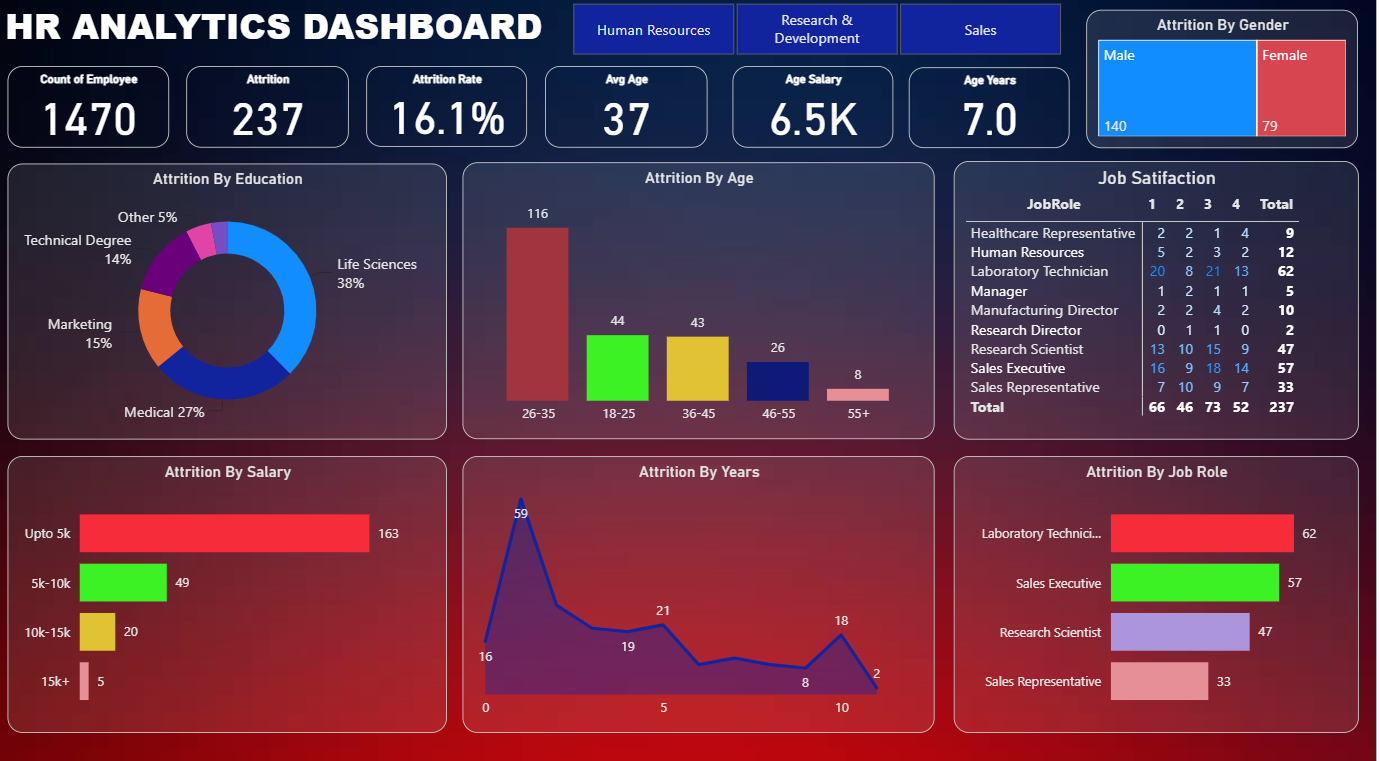

Layout of this report page (visuals, bound fields, positions):
{"tool":"powerbi","page":{"name":"Page 1","canvas":[1280,720],"ordinal":0},"visuals":[{"type":"card","title":"Count of Employee","fields":{"Values":["Sum(HR_Analytics.EmployeeCount)"]},"box":[7,65,150,76],"z":0},{"type":"card","title":"Attrition","fields":{"Values":["Sum(HR_Analytics.AttritionCount)"]},"box":[173,65,150.9,76.1],"z":1000},{"type":"card","title":"Avg Age","fields":{"Values":["Avg(HR_Analytics.Age)"]},"box":[506.8,65,150.9,76.1],"z":2000},{"type":"card","title":"Attrition Rate","fields":{"Values":["HR_Analytics.AttritionRate"]},"box":[341.1,65,149.7,74.8],"z":3000},{"type":"card","title":"Age Salary","fields":{"Values":["Avg(HR_Analytics.MonthlyIncome)"]},"box":[681,65,149.7,76.1],"z":4000},{"type":"card","title":"Age Years","fields":{"Values":["Avg(HR_Analytics.YearsAtCompany)"]},"box":[845.4,66.3,149.7,74.8],"z":5000},{"type":"donutChart","title":"Attrition By Education","fields":{"Category":["HR_Analytics.EducationField"],"Y":["Sum(HR_Analytics.AttritionCount)"]},"box":[7.4,155.8,408.6,256.4],"z":6000},{"type":"columnChart","title":"Attrition By Age","fields":{"Category":["HR_Analytics.AgeGroup"],"Y":["Sum(HR_Analytics.AttritionCount)"]},"box":[430.7,154.6,439.3,257.7],"z":7000},{"type":"pivotTable","title":"Job Satifaction","fields":{"Rows":["HR_Analytics.JobRole"],"Columns":["HR_Analytics.JobSatisfaction"],"Values":["Sum(HR_Analytics.AttritionCount)"]},"box":[887.1,153.4,376.7,258.9],"z":8000},{"type":"clusteredBarChart","title":"Attrition By Salary","fields":{"Category":["HR_Analytics.SalarySlab"],"Y":["Sum(HR_Analytics.AttritionCount)"]},"box":[7.4,428.2,408.6,257.7],"z":9000},{"type":"clusteredBarChart","title":"Attrition By Job Role","fields":{"Category":["HR_Analytics.JobRole"],"Y":["Sum(HR_Analytics.AttritionCount)"]},"box":[887.1,428.2,376.7,257.7],"z":10000},{"type":"areaChart","title":"Attrition By Years","fields":{"Category":["HR_Analytics.YearsAtCompany"],"Y":["Sum(HR_Analytics.AttritionCount)"]},"box":[430.7,428.2,439.3,257.7],"z":11000},{"type":"treemap","title":"Attrition By Gender","fields":{"Group":["HR_Analytics.Gender"],"Values":["Sum(HR_Analytics.AttritionCount)"]},"box":[1011,12.3,252.8,128.8],"z":12000},{"type":"slicer","fields":{"Values":["HR_Analytics.Department"]},"box":[506.8,0,504.3,61.4],"z":13000},{"type":"textbox","box":[0,0,535,71.2],"z":14000}]}

Visuals, with their boxes in screenshot pixels (x1, y1, x2, y2), scaled from the page's 1280x720 canvas onto the 1380x761 screenshot:
"Count of Employee" card: pyautogui.locateOnScreen(8, 69, 169, 149)
"Attrition" card: pyautogui.locateOnScreen(187, 69, 349, 149)
"Avg Age" card: pyautogui.locateOnScreen(546, 69, 709, 149)
"Attrition Rate" card: pyautogui.locateOnScreen(368, 69, 529, 148)
"Age Salary" card: pyautogui.locateOnScreen(734, 69, 896, 149)
"Age Years" card: pyautogui.locateOnScreen(911, 70, 1073, 149)
"Attrition By Education" donutChart: pyautogui.locateOnScreen(8, 165, 448, 436)
"Attrition By Age" columnChart: pyautogui.locateOnScreen(464, 163, 938, 436)
"Job Satifaction" pivotTable: pyautogui.locateOnScreen(956, 162, 1363, 436)
"Attrition By Salary" clusteredBarChart: pyautogui.locateOnScreen(8, 453, 448, 725)
"Attrition By Job Role" clusteredBarChart: pyautogui.locateOnScreen(956, 453, 1363, 725)
"Attrition By Years" areaChart: pyautogui.locateOnScreen(464, 453, 938, 725)
"Attrition By Gender" treemap: pyautogui.locateOnScreen(1090, 13, 1363, 149)
slicer - HR_Analytics.Department: pyautogui.locateOnScreen(546, 0, 1090, 65)
textbox: pyautogui.locateOnScreen(0, 0, 577, 75)
